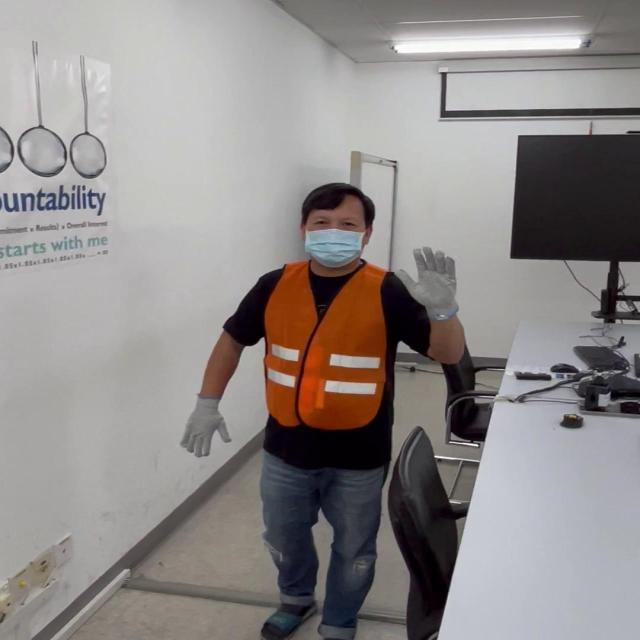gloved_hand: (387, 239, 460, 325), (178, 394, 238, 458)
